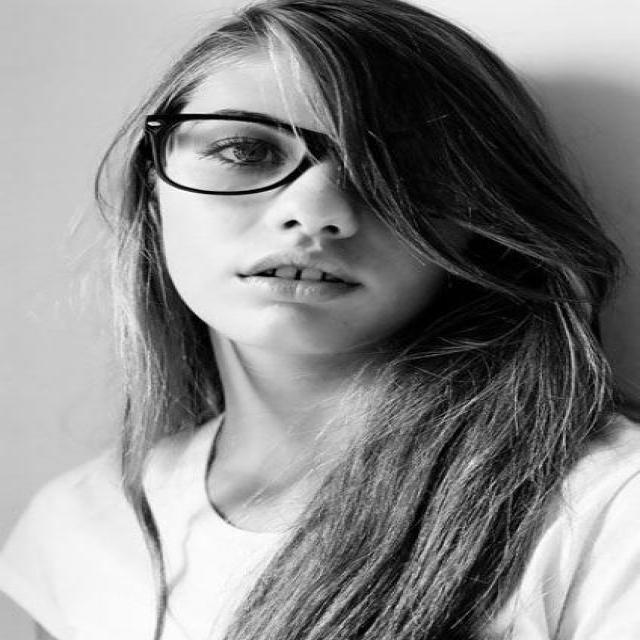glasses: (151, 113, 338, 197)
